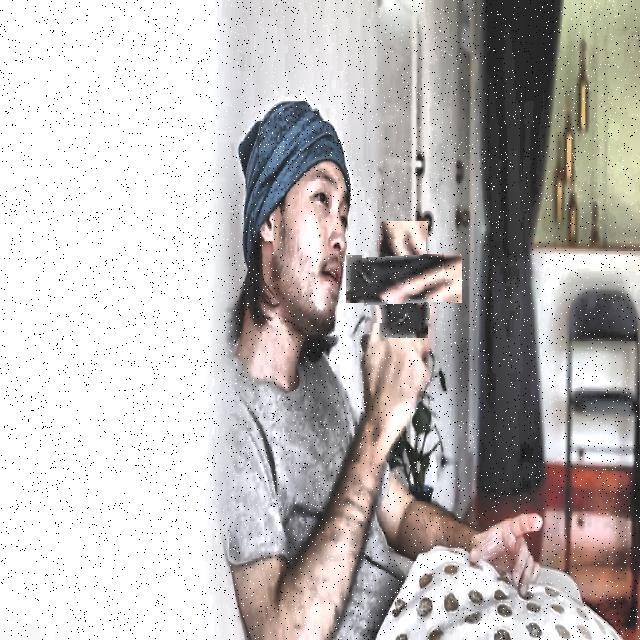Phone: (362, 237, 446, 322)
